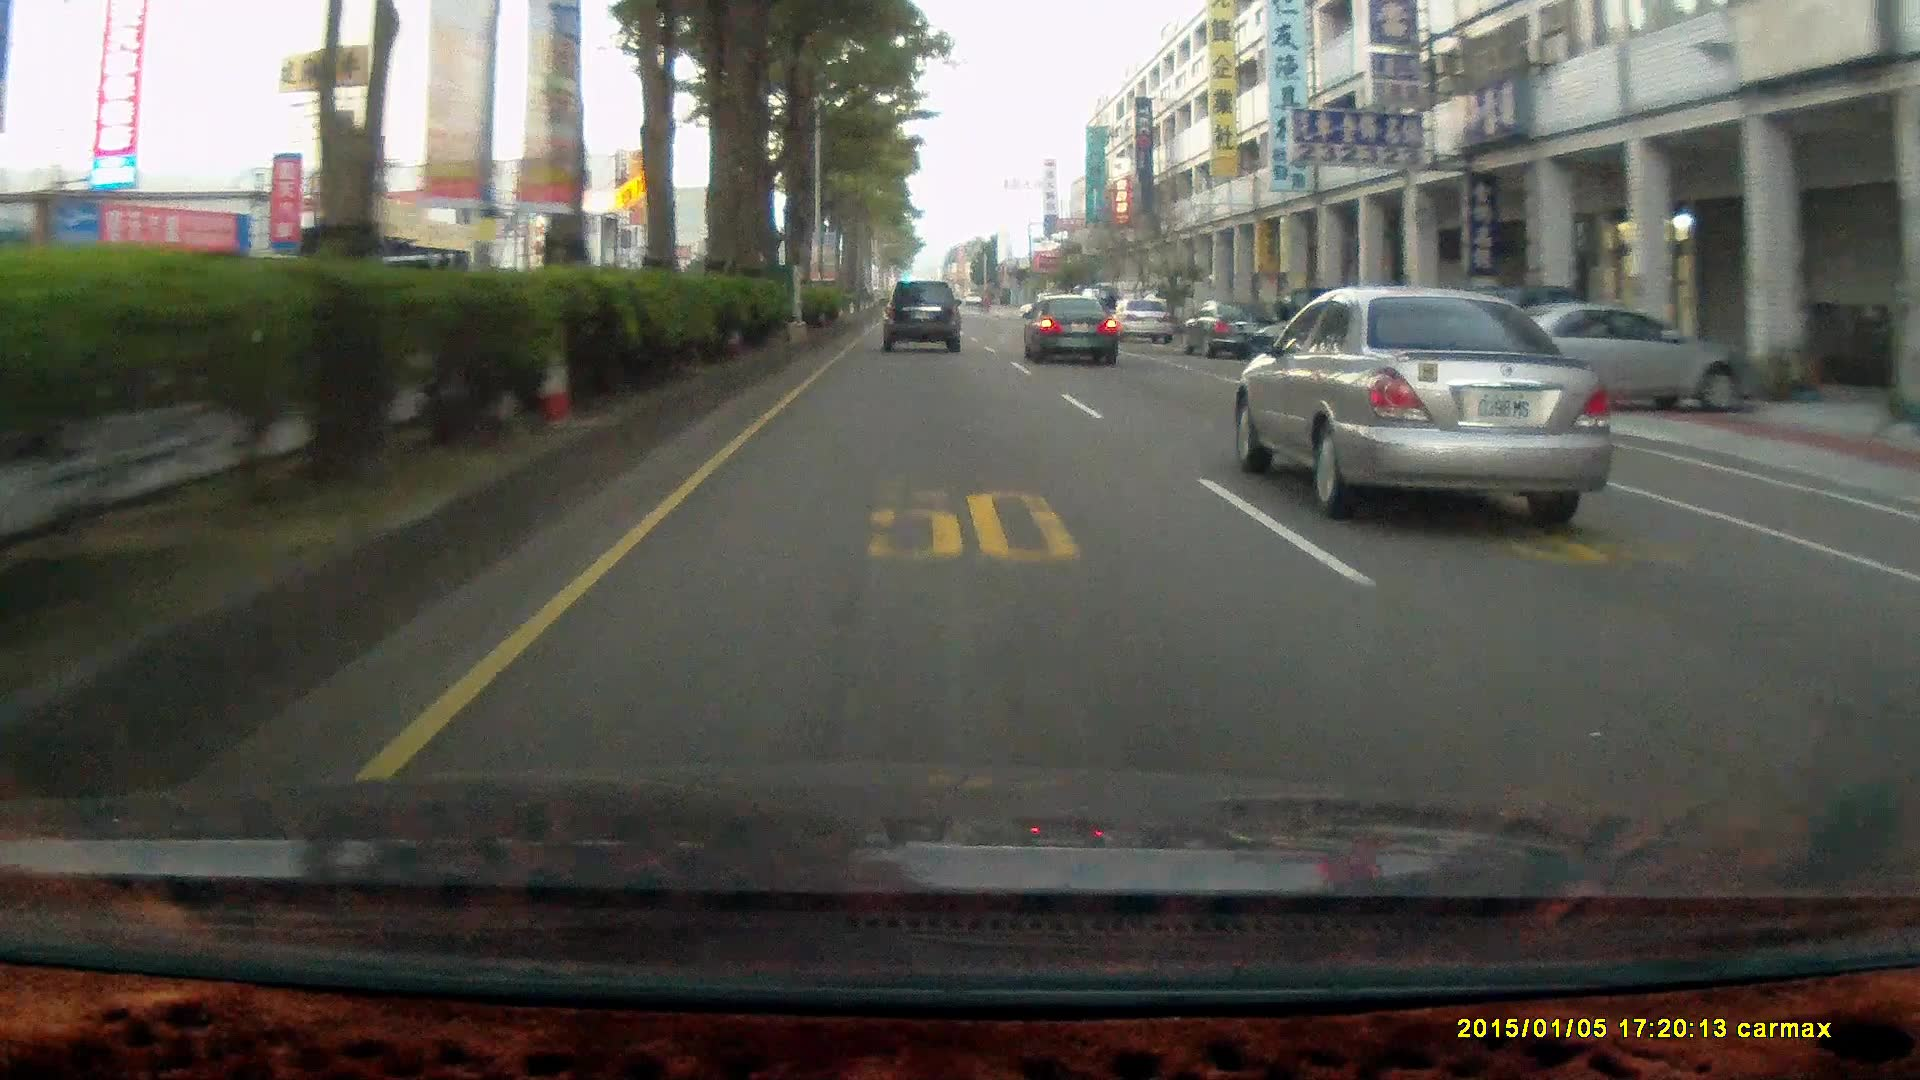vehicle: (1226, 286, 1629, 526), (1451, 301, 1766, 415), (1460, 298, 1762, 411), (1025, 294, 1124, 365), (1021, 293, 1116, 367), (884, 280, 965, 357), (1179, 295, 1278, 357), (880, 280, 963, 349), (1106, 295, 1174, 344), (1114, 295, 1175, 345)
